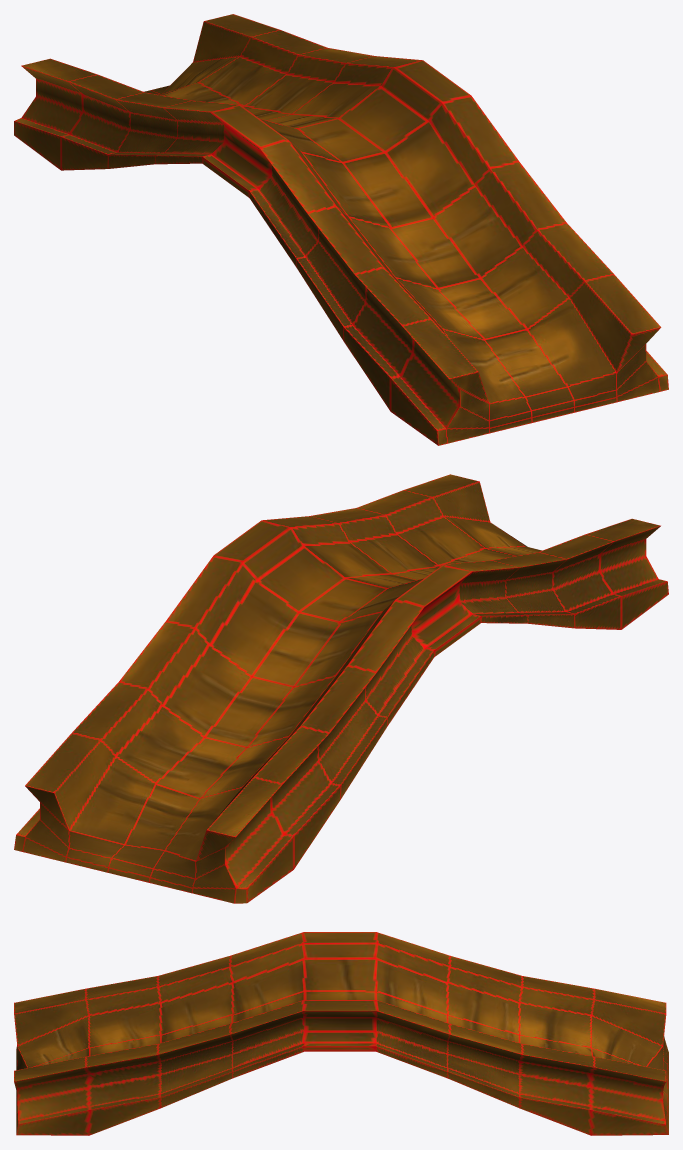
File: Asset_Bridge1_Mesh.fbx
3 views of the same model, one above another, from view 1: azimuth 30°, elevation 25°; view 2: azimuth 150°, elevation 25°; view 3: azimuth 270°, elevation 25° (orthographic). The views are drawn at different scales.
Visible parts, largest first — view 1: pCube1; view 2: pCube1; view 3: pCube1.
Part boxes in pixels (x1,y1,x2,y2): pCube1: [14, 14, 668, 445]; pCube1: [14, 474, 668, 903]; pCube1: [14, 932, 668, 1135].
Size of the model in its own units: 0.0343 by 0.0227 by 0.1109.
